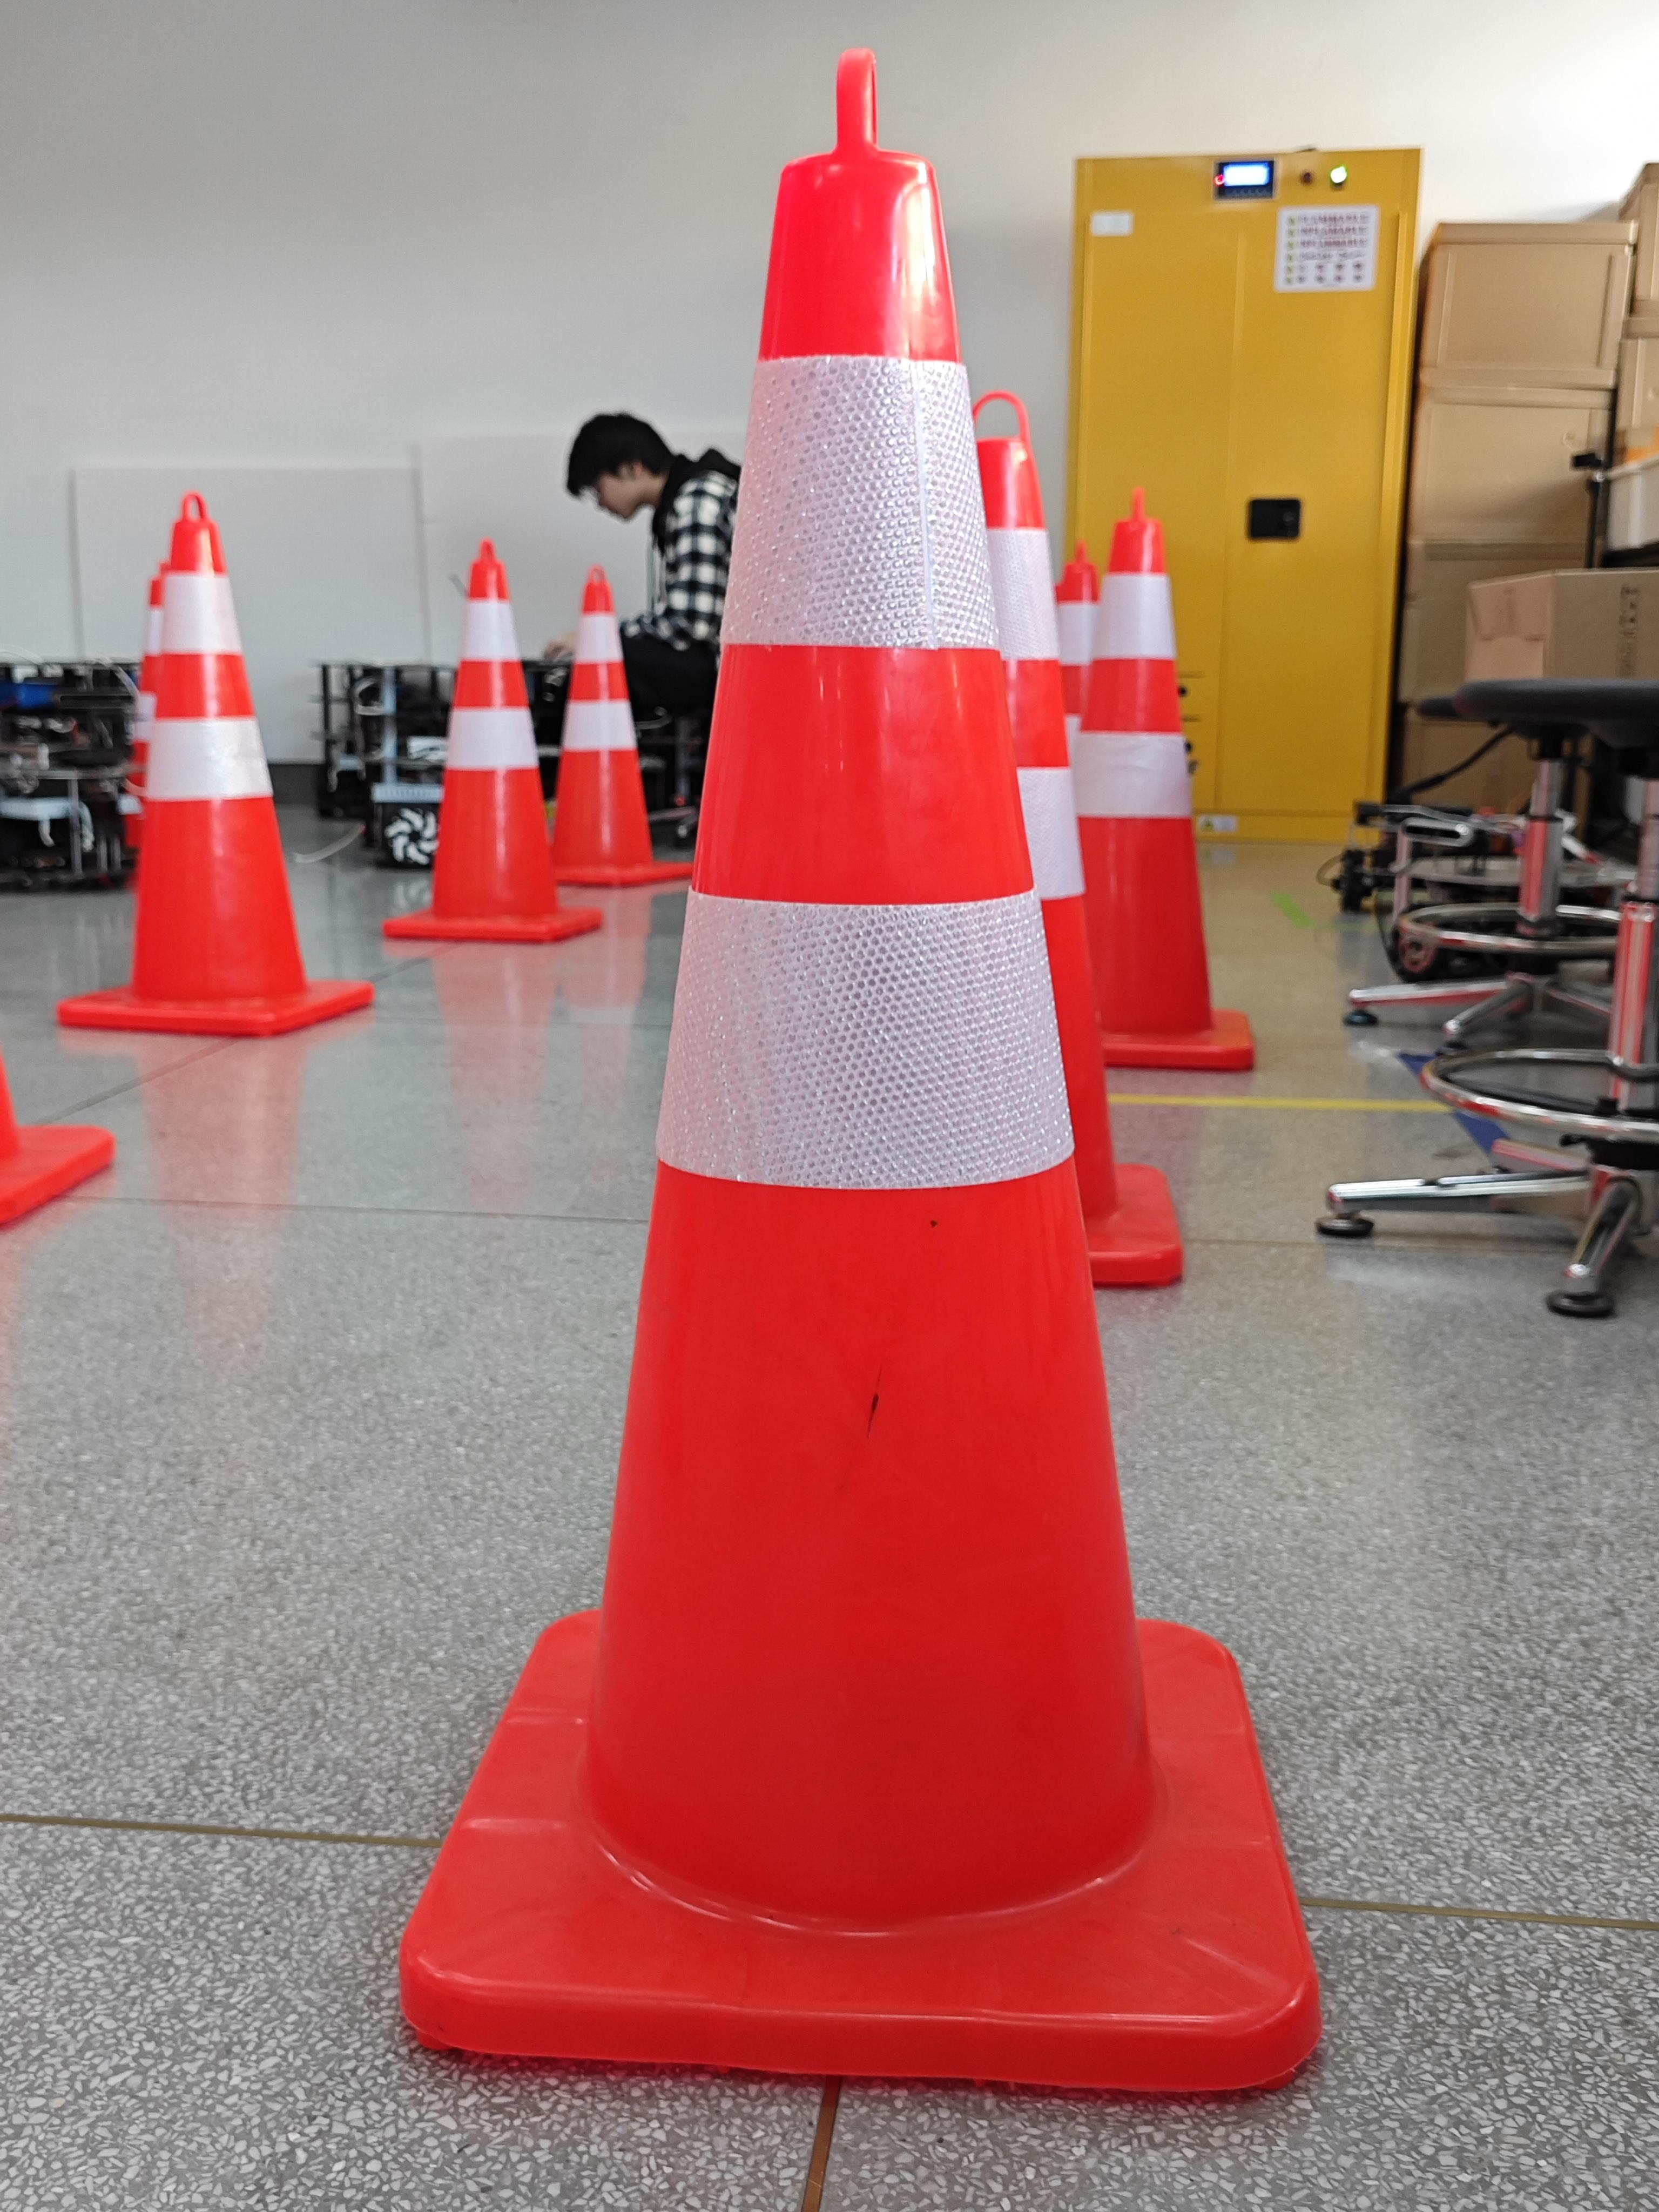cone: (403, 54, 1317, 2090), (974, 392, 1182, 1285), (58, 493, 373, 1035), (1072, 491, 1255, 1069), (382, 540, 601, 942), (552, 566, 692, 885), (0, 1061, 115, 1223), (124, 566, 164, 848), (1054, 542, 1098, 744)
